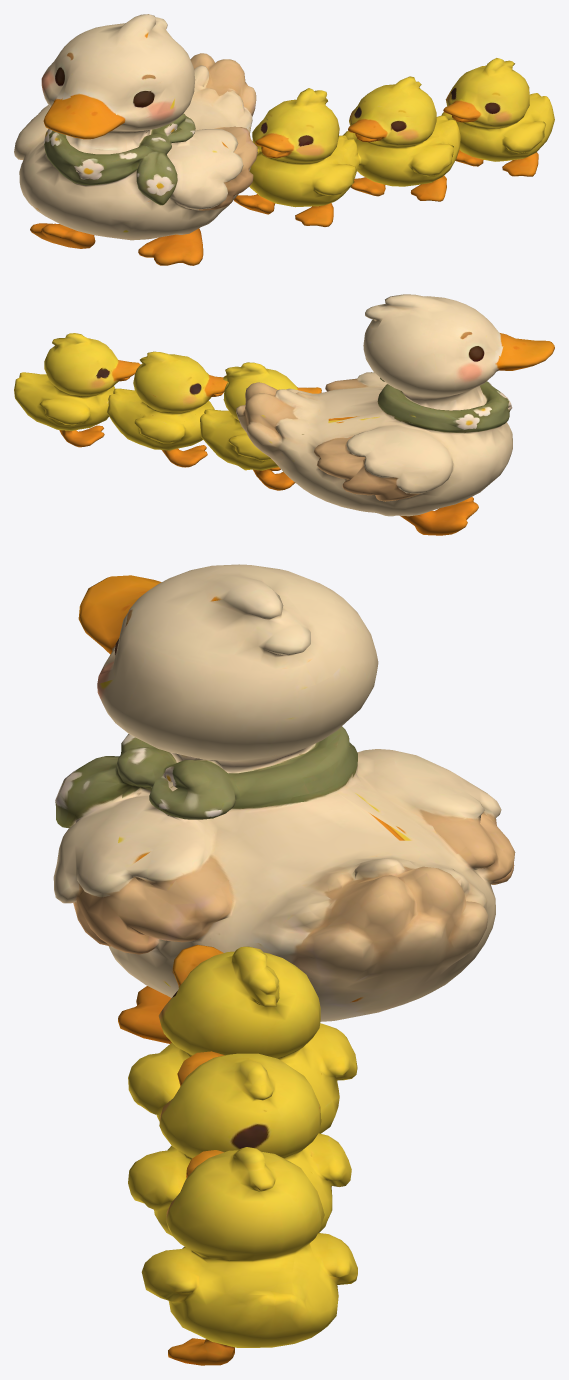
3 renders of one model, top to bottom at view 1: azimuth 30°, elevation 25°; view 2: azimuth 150°, elevation 25°; view 3: azimuth 270°, elevation 25°, orthographic. The views are drawn at different scales.
Parts seen in each view (by area): view 1: duck-family; view 2: duck-family; view 3: duck-family.
Boxes of the visible parts, x1,y1,x2,y2 form: duck-family: [14, 14, 554, 265]; duck-family: [14, 294, 554, 535]; duck-family: [53, 564, 515, 1365].
Bounding box in the file's own units: 1.2 × 0.5001 × 0.4793.
1 material, 1 textured.
